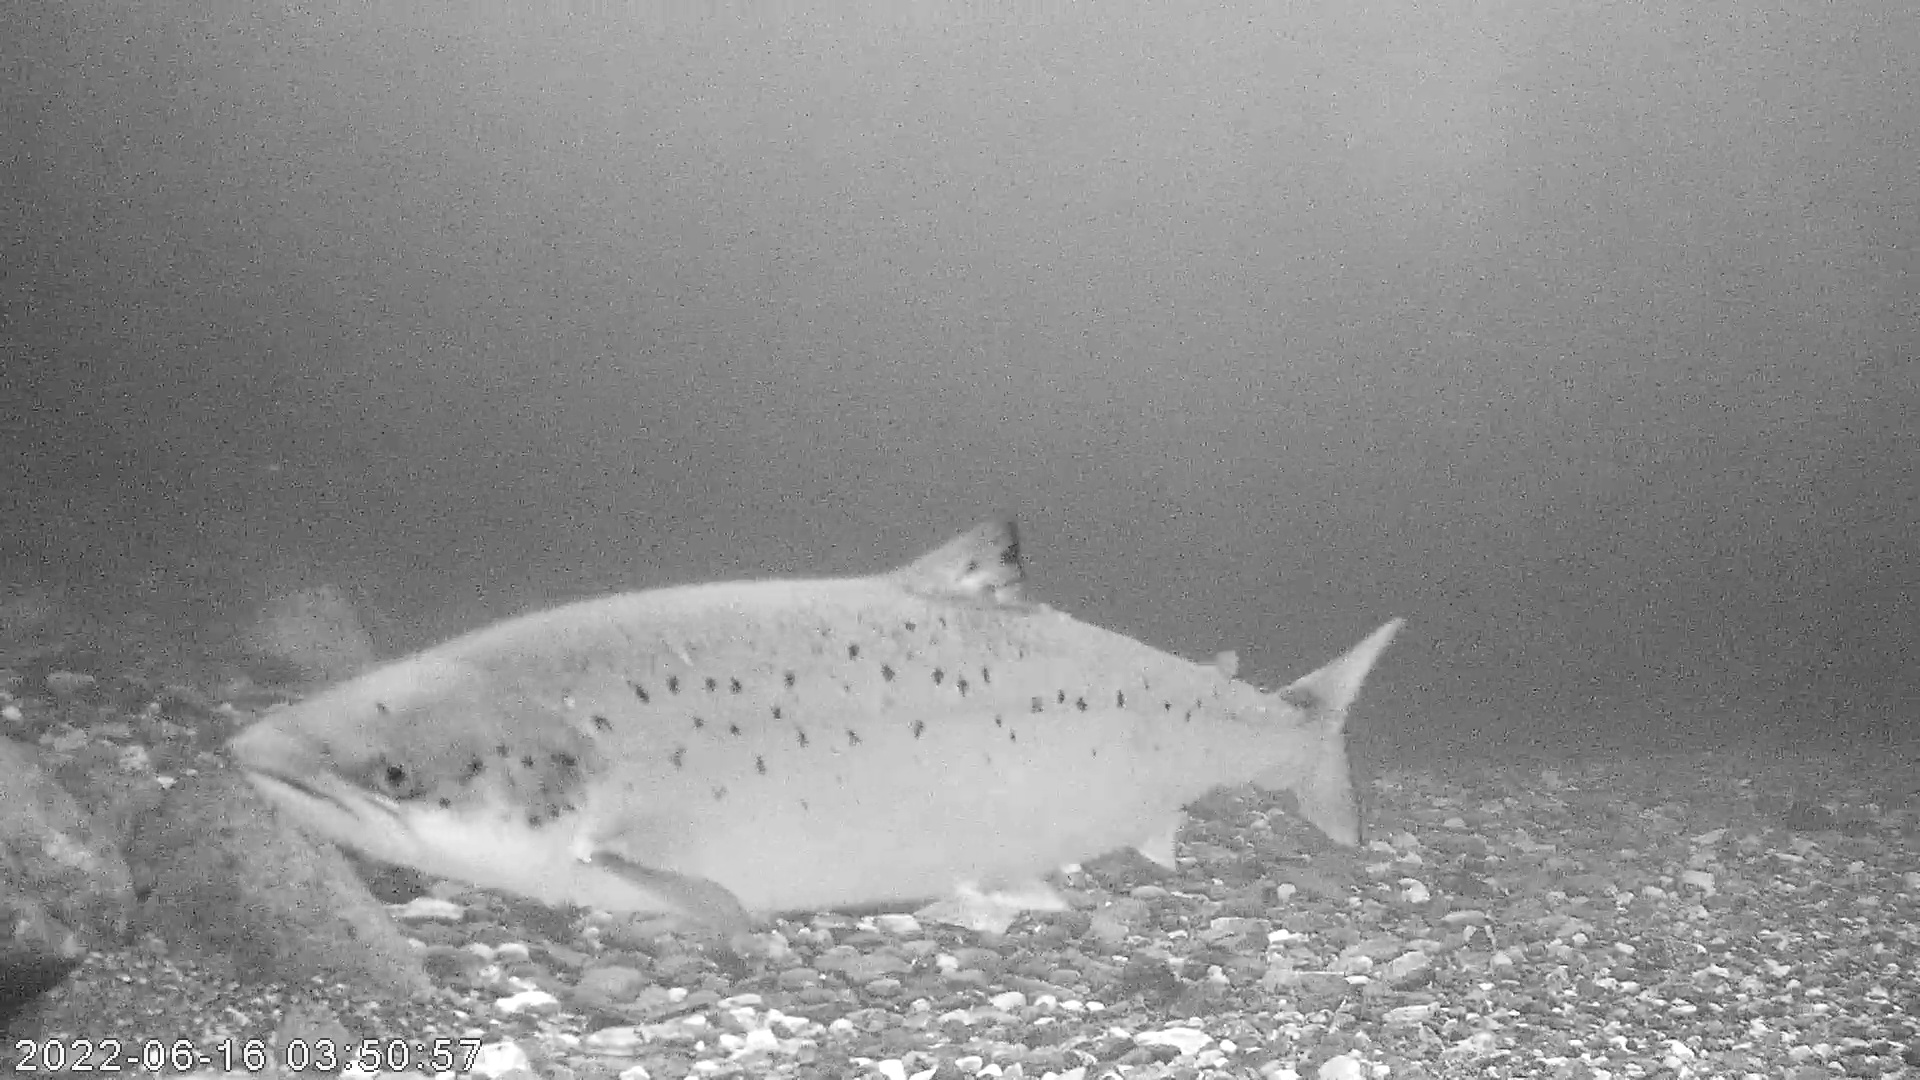salmon: (223, 510, 1407, 934)
